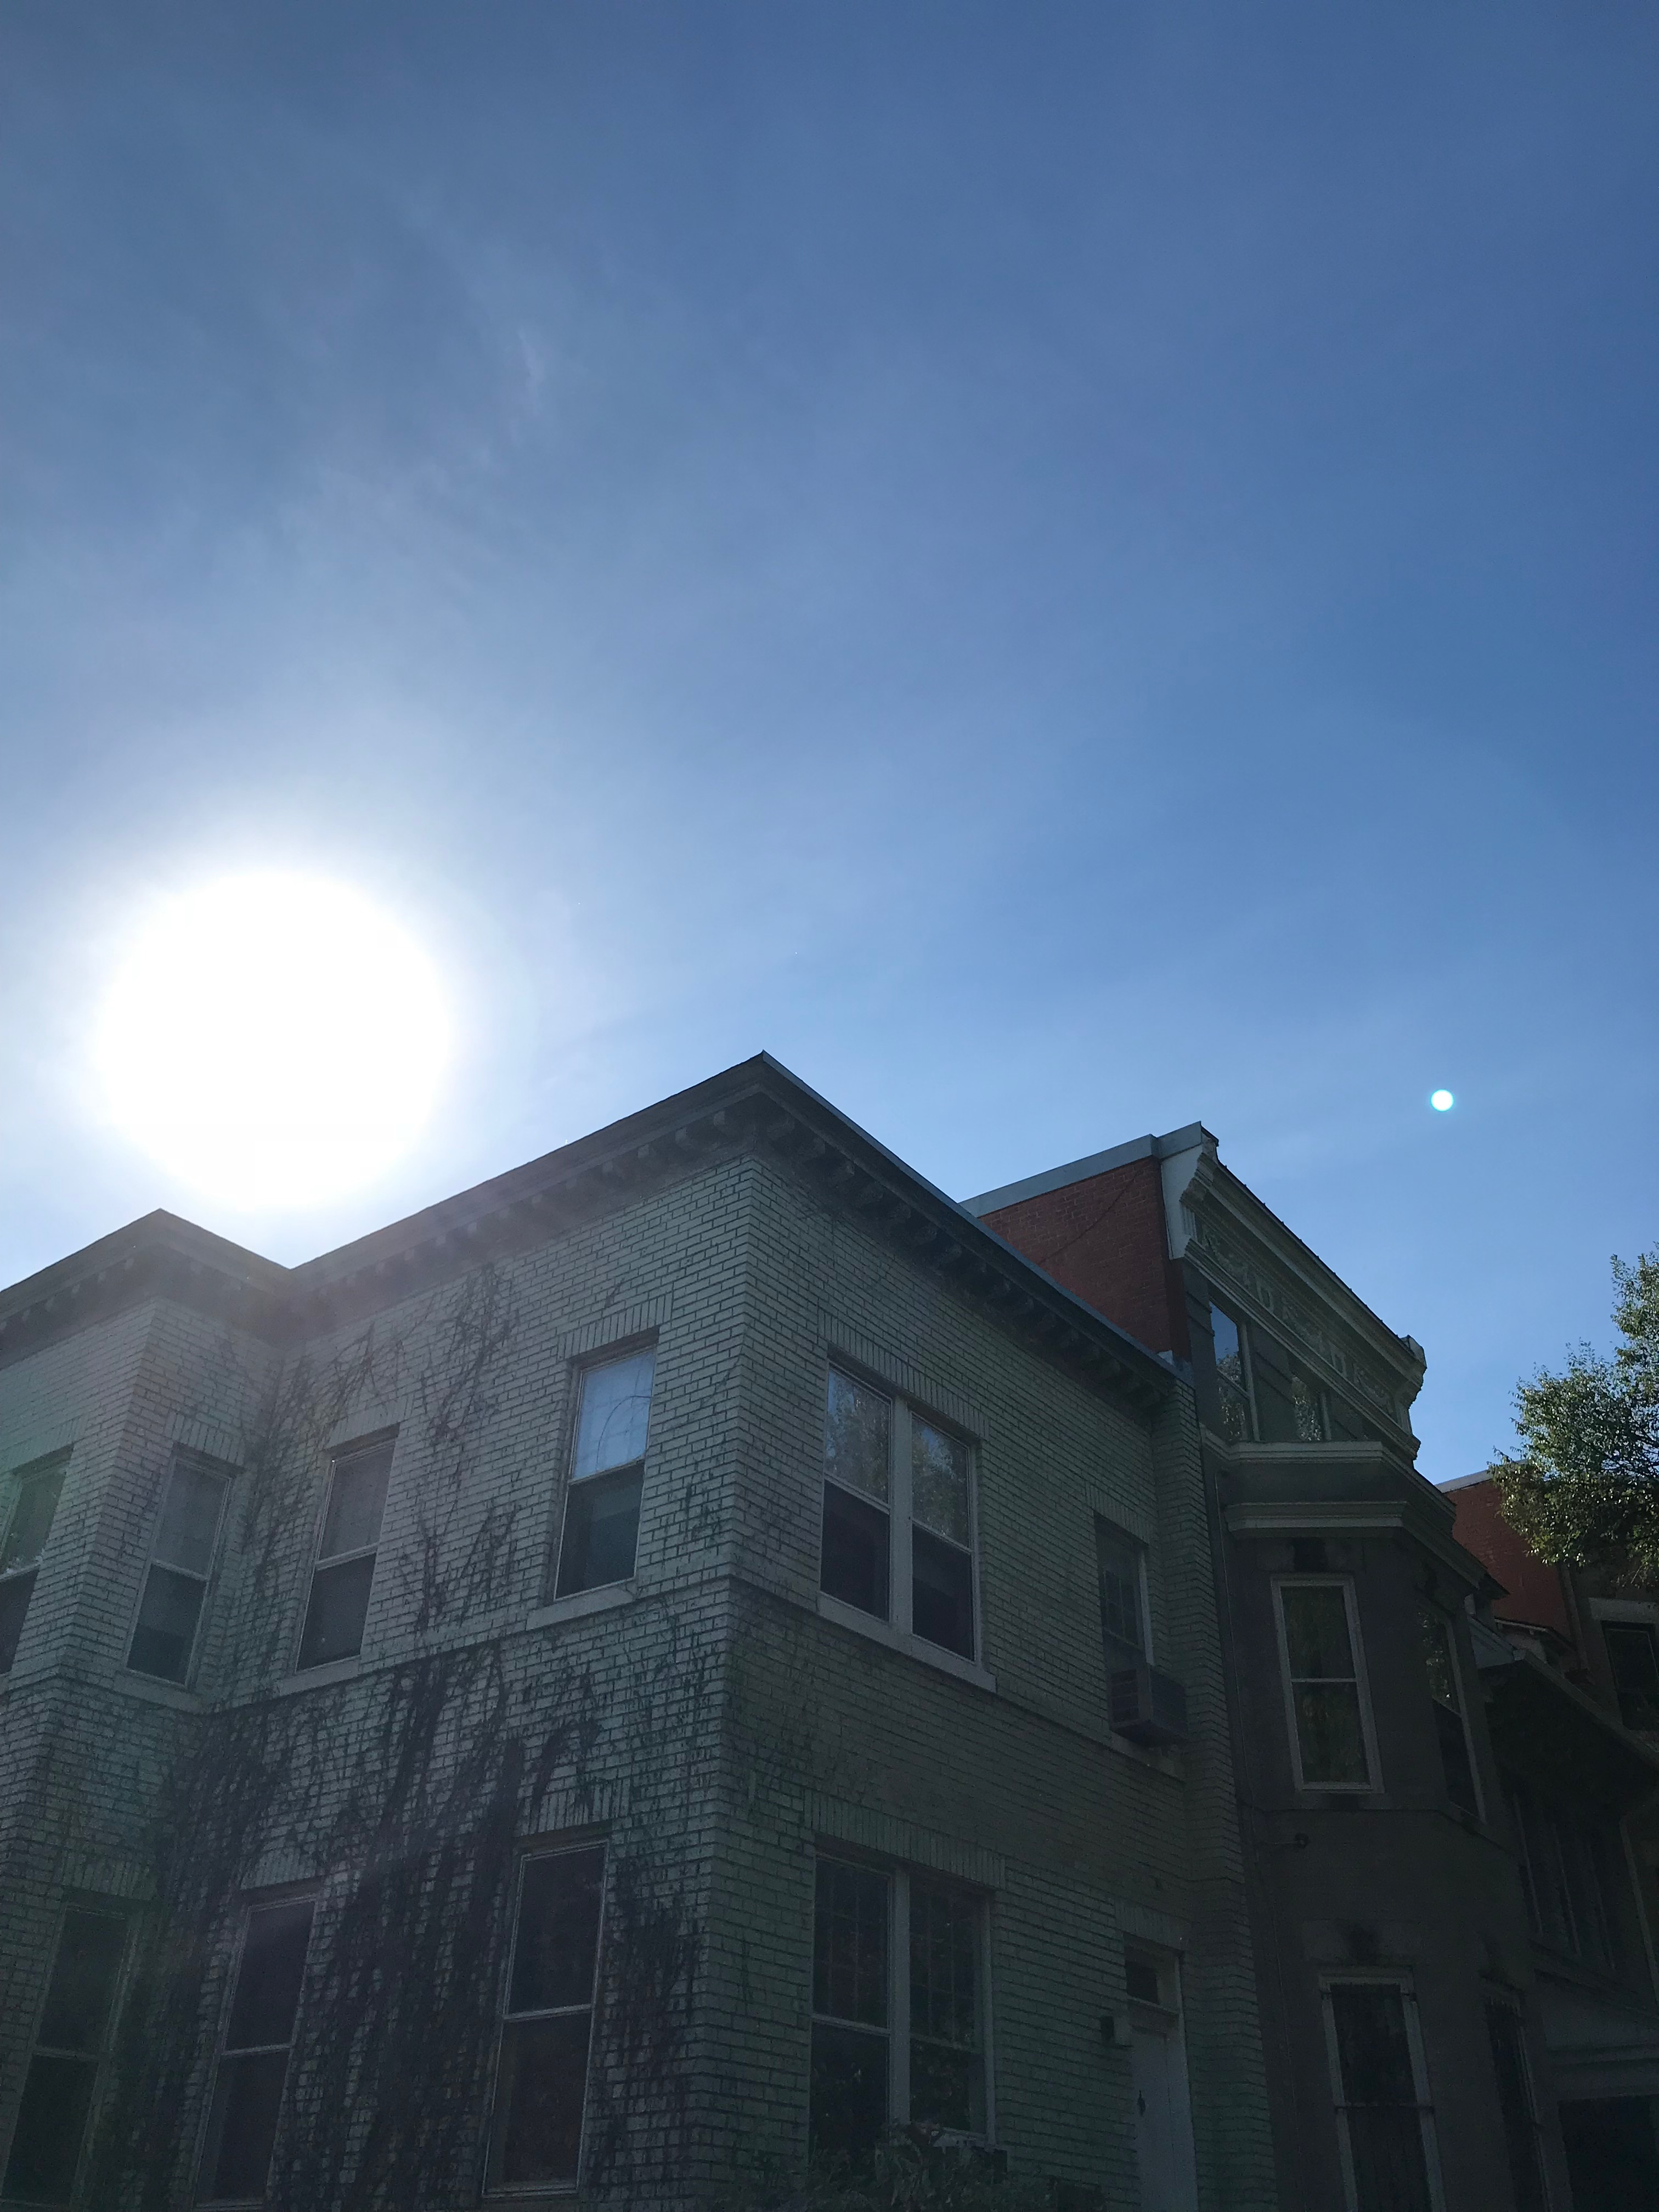flare: (1429, 1089, 1457, 1113)
